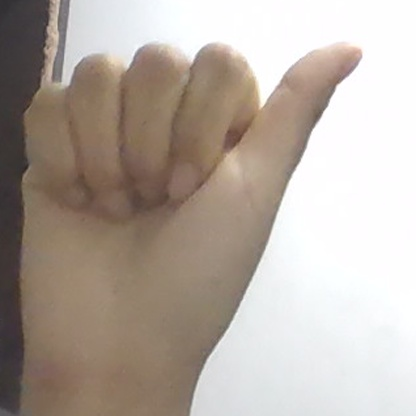A: (21, 43, 362, 373)
